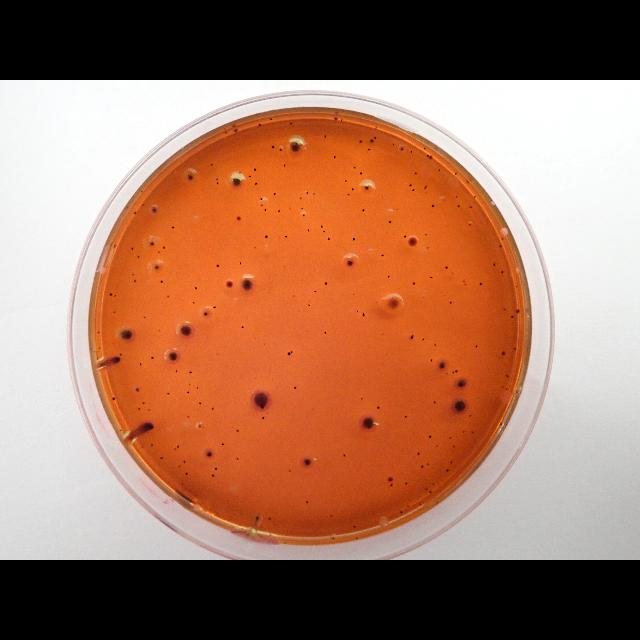colony: (250, 388, 272, 412), (287, 136, 305, 158), (117, 324, 135, 346), (385, 294, 403, 310), (178, 323, 195, 339), (165, 348, 181, 364), (360, 416, 378, 430), (240, 276, 254, 294), (452, 400, 470, 412), (361, 181, 374, 195), (230, 175, 242, 189), (344, 257, 356, 271), (300, 456, 314, 468), (184, 171, 196, 183), (456, 378, 468, 390), (149, 204, 159, 216), (205, 448, 215, 460), (407, 236, 417, 248), (200, 309, 210, 319), (224, 280, 234, 290), (288, 119, 296, 129), (148, 238, 156, 248), (438, 360, 446, 370), (269, 143, 277, 151), (153, 263, 161, 271), (257, 119, 263, 129), (409, 333, 415, 342), (268, 115, 274, 123), (304, 498, 310, 506), (448, 434, 454, 442), (342, 451, 348, 459), (236, 215, 242, 222), (253, 516, 260, 522), (259, 196, 265, 202), (132, 210, 138, 216), (134, 387, 140, 393), (136, 406, 142, 412), (149, 442, 155, 448), (180, 481, 186, 487), (387, 476, 393, 482), (326, 236, 332, 242), (500, 350, 506, 356), (478, 281, 484, 287), (444, 265, 450, 271), (428, 274, 434, 280), (499, 269, 505, 275), (430, 203, 436, 209), (422, 184, 428, 190), (408, 182, 414, 188), (351, 236, 357, 242), (514, 283, 520, 289), (279, 146, 283, 154), (233, 126, 237, 134), (224, 129, 228, 137), (198, 422, 202, 430), (324, 280, 328, 288), (136, 253, 140, 260), (210, 162, 214, 168), (216, 180, 220, 186), (238, 170, 242, 176), (252, 168, 258, 172), (171, 224, 175, 230), (141, 202, 145, 208), (130, 246, 134, 252), (162, 245, 166, 251), (133, 278, 137, 284), (108, 292, 112, 298), (96, 329, 100, 335), (139, 361, 143, 367), (175, 368, 179, 374), (166, 391, 170, 397), (146, 408, 152, 412), (182, 459, 186, 465), (185, 471, 189, 477), (176, 464, 182, 468), (214, 466, 218, 472), (211, 473, 215, 479), (236, 428, 240, 434), (211, 406, 215, 412), (352, 524, 356, 530), (446, 468, 450, 474), (428, 434, 432, 440), (452, 444, 456, 450), (471, 430, 475, 436), (499, 421, 503, 427), (360, 396, 364, 402), (287, 352, 291, 358), (143, 314, 147, 320), (160, 279, 164, 285), (194, 285, 198, 291), (214, 264, 220, 268), (305, 190, 309, 196), (302, 212, 306, 218), (264, 234, 268, 240), (306, 227, 310, 233), (312, 289, 318, 293), (362, 312, 366, 318), (421, 336, 425, 342), (433, 342, 437, 348), (428, 358, 434, 362), (454, 368, 458, 374), (475, 344, 479, 350), (513, 346, 517, 352), (504, 374, 510, 378), (516, 308, 520, 314), (510, 314, 514, 320), (412, 280, 416, 286), (448, 301, 454, 305), (468, 222, 472, 228), (402, 234, 408, 238), (456, 203, 460, 209), (388, 219, 392, 225), (414, 170, 418, 176), (400, 146, 404, 152), (358, 140, 364, 144), (370, 138, 374, 144), (334, 116, 338, 122), (332, 154, 336, 160), (344, 178, 348, 184), (380, 252, 384, 258), (288, 468, 292, 474), (216, 177, 220, 181), (248, 175, 252, 179), (254, 182, 258, 186), (157, 250, 161, 254), (131, 273, 135, 277), (112, 310, 116, 314), (118, 352, 122, 356), (150, 356, 154, 360), (188, 370, 192, 374), (112, 396, 116, 400), (142, 401, 146, 405), (159, 456, 163, 460), (176, 444, 180, 448), (186, 415, 190, 419), (198, 401, 202, 405), (186, 390, 190, 394), (268, 517, 272, 521), (331, 536, 335, 540), (389, 483, 393, 487), (404, 482, 408, 486), (399, 510, 403, 514), (424, 487, 428, 491), (429, 490, 433, 494), (418, 502, 422, 506), (406, 504, 410, 508), (420, 465, 424, 469), (417, 452, 421, 456), (404, 415, 408, 419), (435, 444, 439, 448), (468, 414, 472, 418), (462, 430, 466, 434), (433, 400, 437, 404), (376, 406, 380, 410), (293, 386, 297, 390), (261, 416, 265, 420), (212, 305, 216, 309), (166, 294, 170, 298), (273, 192, 277, 196), (312, 191, 316, 195), (299, 196, 303, 200), (300, 206, 304, 210), (320, 224, 324, 228), (322, 229, 326, 233), (307, 304, 311, 308), (355, 309, 359, 313), (502, 307, 506, 311), (492, 262, 496, 266), (498, 244, 502, 248), (500, 237, 504, 241), (424, 233, 428, 237), (469, 205, 473, 209), (411, 188, 415, 192), (426, 154, 430, 158), (429, 156, 433, 160), (454, 172, 458, 176), (410, 150, 414, 154), (367, 148, 371, 152), (373, 136, 377, 140), (323, 134, 327, 138), (352, 166, 356, 170), (387, 274, 391, 278), (188, 382, 192, 386), (356, 536, 358, 542), (426, 462, 429, 466), (242, 324, 244, 330), (260, 205, 264, 208), (506, 386, 508, 392), (502, 384, 504, 390), (426, 247, 430, 250), (474, 194, 476, 200), (341, 117, 344, 121), (360, 170, 362, 176), (197, 386, 200, 390), (114, 294, 116, 298), (120, 428, 122, 432), (174, 447, 176, 451), (202, 426, 204, 430), (222, 442, 224, 446), (236, 456, 238, 460), (330, 513, 332, 517), (450, 460, 452, 464), (324, 331, 326, 335), (192, 300, 194, 304), (238, 262, 242, 264), (264, 208, 266, 212), (278, 209, 280, 213), (284, 164, 286, 168), (284, 235, 288, 237), (452, 370, 454, 374), (456, 194, 458, 198), (438, 168, 440, 172), (423, 148, 427, 150), (391, 144, 395, 146), (352, 188, 354, 192), (347, 194, 351, 196), (362, 208, 364, 212), (291, 351, 293, 354)
